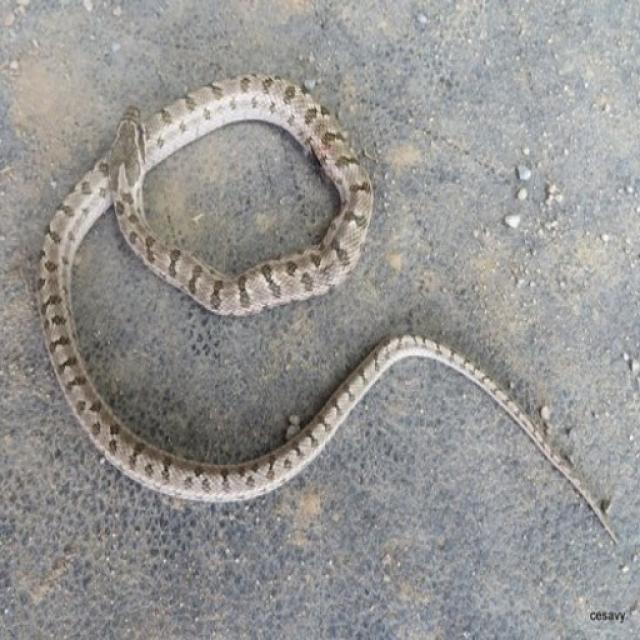snake: (30, 68, 619, 588)
